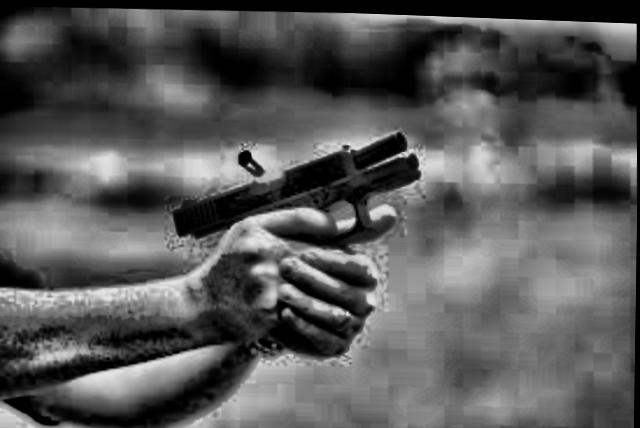pistol: (171, 111, 418, 252)
